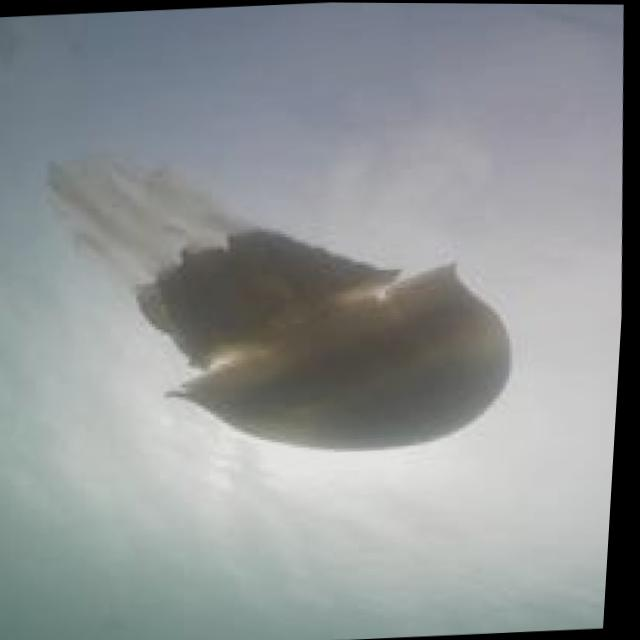Jellyfish: (34, 129, 538, 466)
